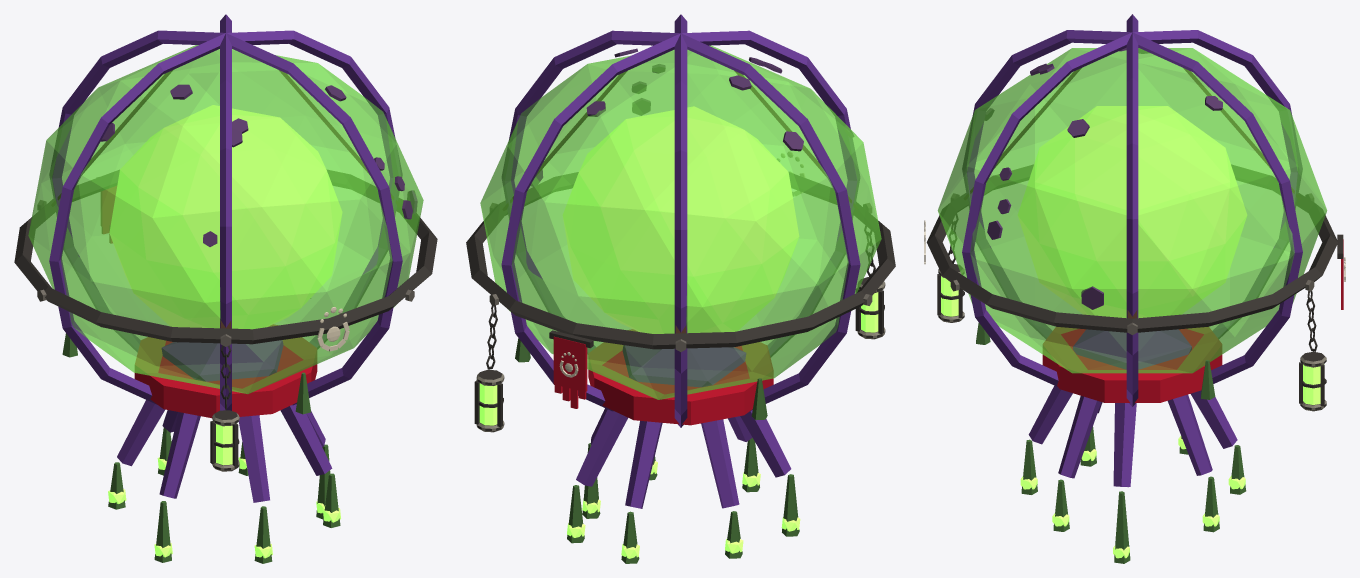
File: s_spore_cloud.glb
3 views of the same model, side by side, from view 1: azimuth 30°, elevation 25°; view 2: azimuth 150°, elevation 25°; view 3: azimuth 270°, elevation 25° (orthographic). The views are drawn at different scales.
Parts seen in each view (by area): view 1: s_spore_cloud; view 2: s_spore_cloud; view 3: s_spore_cloud.
Part boxes in pixels (box(x1,y1,x2,y2)): s_spore_cloud: box(14, 14, 437, 563); s_spore_cloud: box(466, 14, 895, 563); s_spore_cloud: box(924, 14, 1345, 563).
Bounding box in the file's own units: 4.14 × 5.34 × 4.22.
